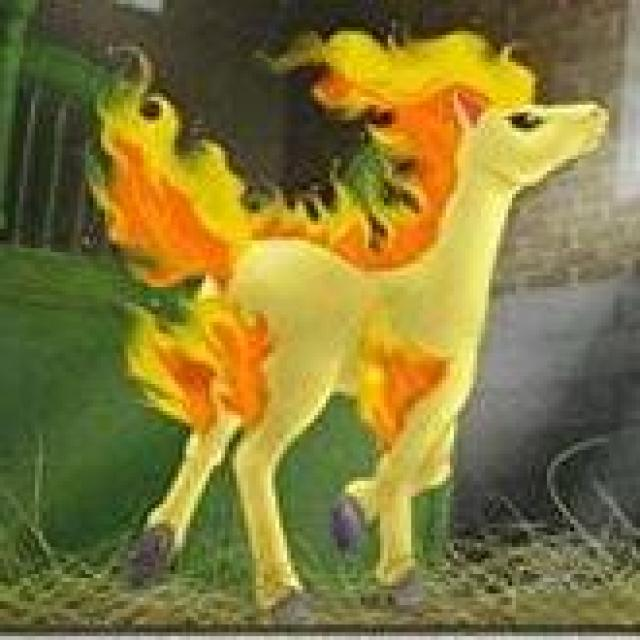Ponyta: (95, 40, 604, 562)
